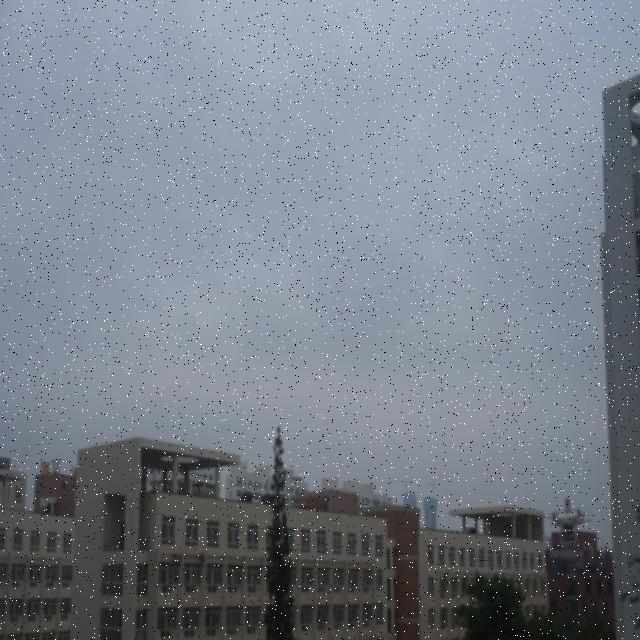UAV: (544, 508, 592, 547)
